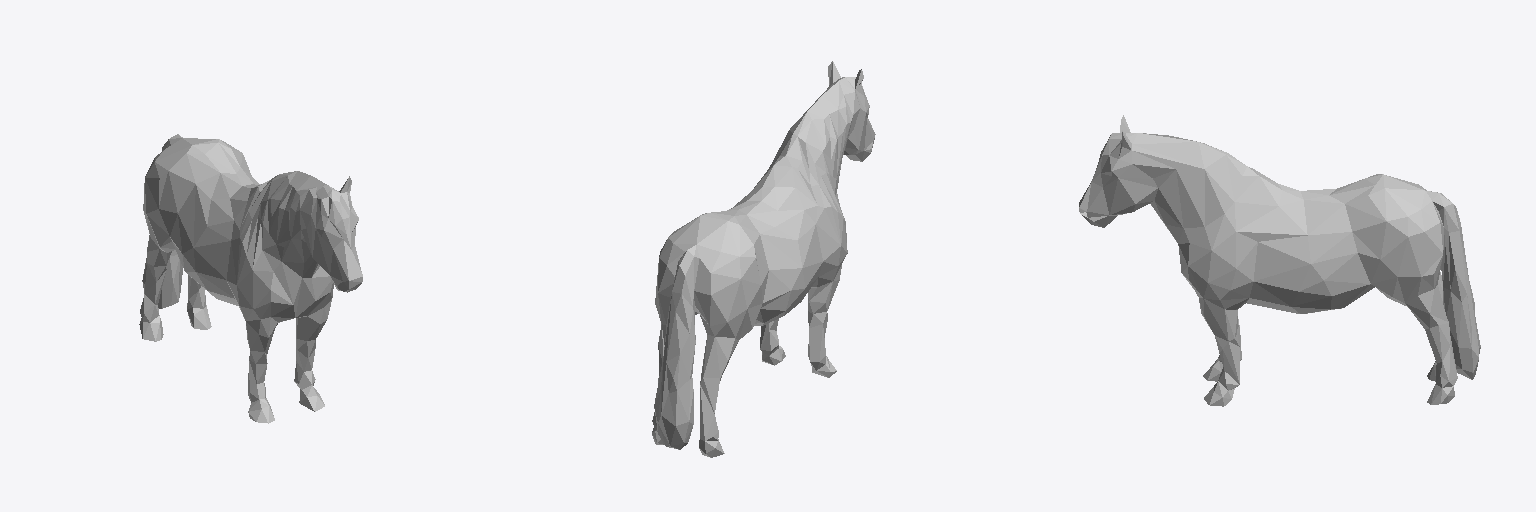
File: pony.obj
3 renders of one model, left to right at view 1: azimuth 30°, elevation 25°; view 2: azimuth 150°, elevation 25°; view 3: azimuth 270°, elevation 25°, orthographic.
Parts seen in each view (by area): view 1: pony; view 2: pony; view 3: pony.
Part boxes in pixels (bbox=[...]): pony: bbox=[139, 134, 362, 423]; pony: bbox=[652, 61, 875, 457]; pony: bbox=[1079, 115, 1480, 406].
Size of the model in its own units: 38.07 by 100 by 136.